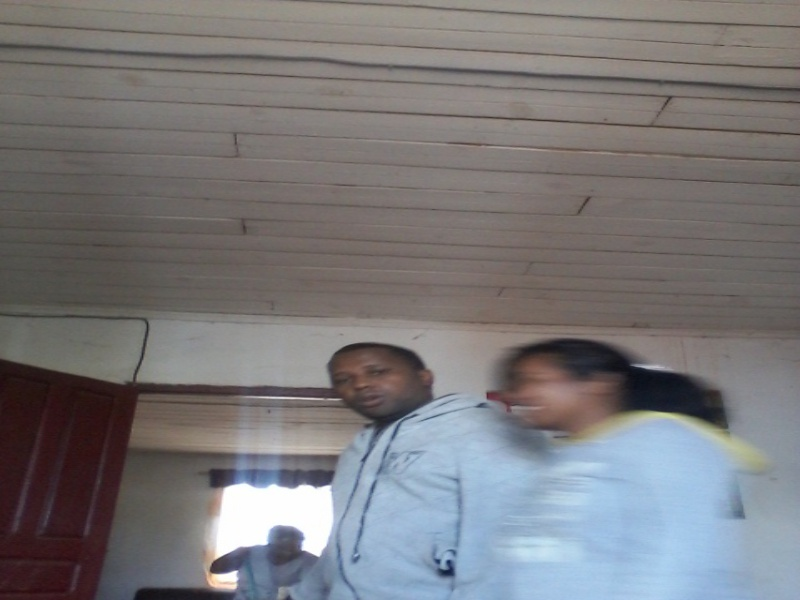TsisyArotava: (318, 332, 448, 431), (492, 331, 579, 445)
